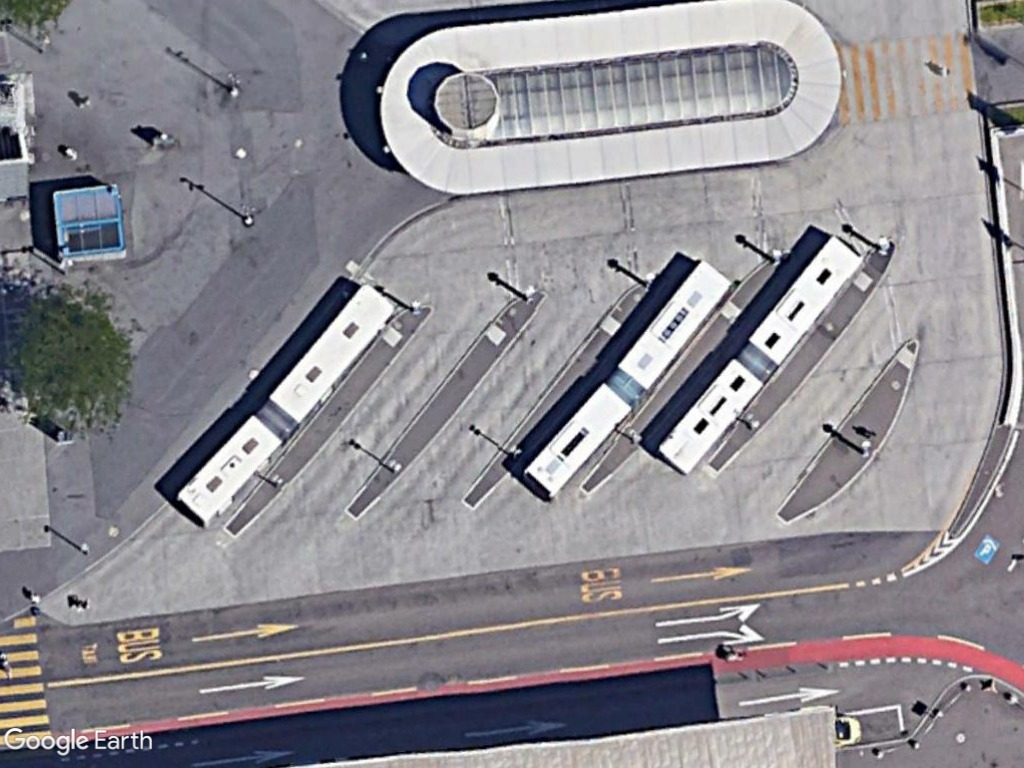bus: (266, 279, 399, 430), (612, 256, 735, 396), (746, 239, 866, 369), (519, 378, 635, 501), (170, 409, 283, 534), (654, 354, 765, 478)
